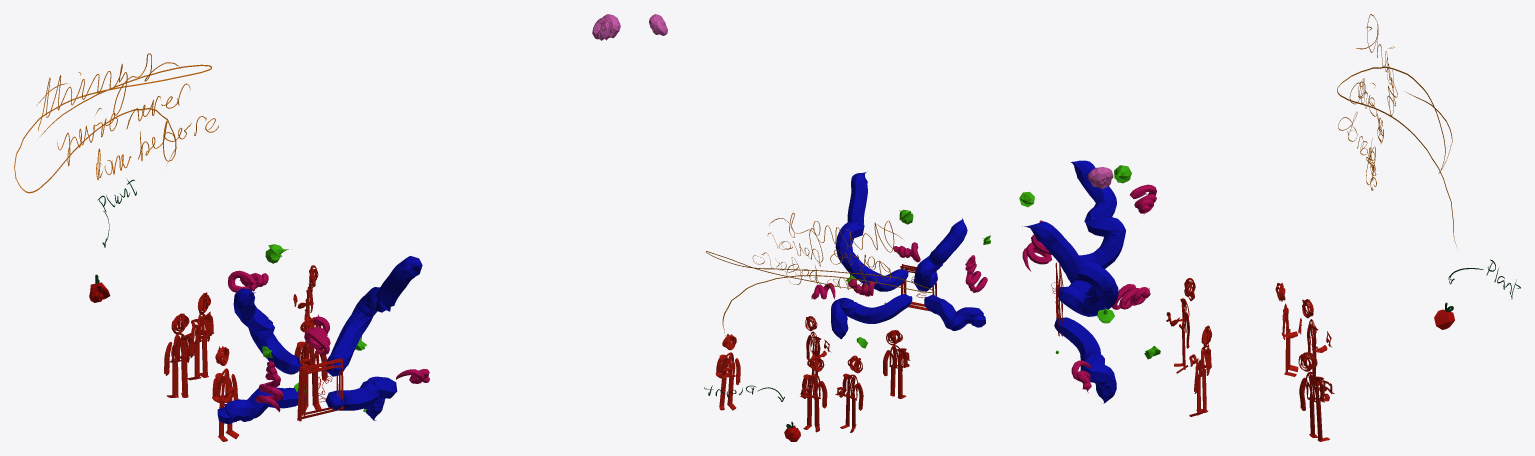
The picture shows the model from 3 angles, left to right: view 1: azimuth 30°, elevation 25°; view 2: azimuth 150°, elevation 25°; view 3: azimuth 270°, elevation 25°; orthographic projection. The views are drawn at different scales.
Parts seen in each view (by area): view 1: Paint; view 2: Paint; view 3: Paint.
Part boxes in pixels (bbox=[...]): Paint: bbox=[14, 14, 620, 441]; Paint: bbox=[649, 14, 990, 441]; Paint: bbox=[1019, 14, 1520, 441].
Bounding box in the file's own units: 15.68 × 11.6 × 14.14.
